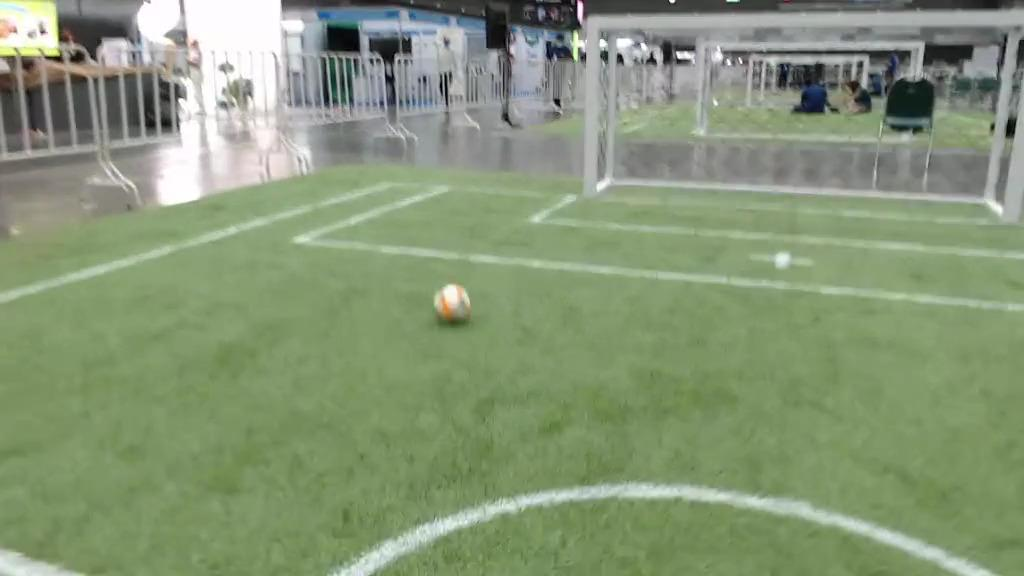ball: (431, 283, 470, 326)
